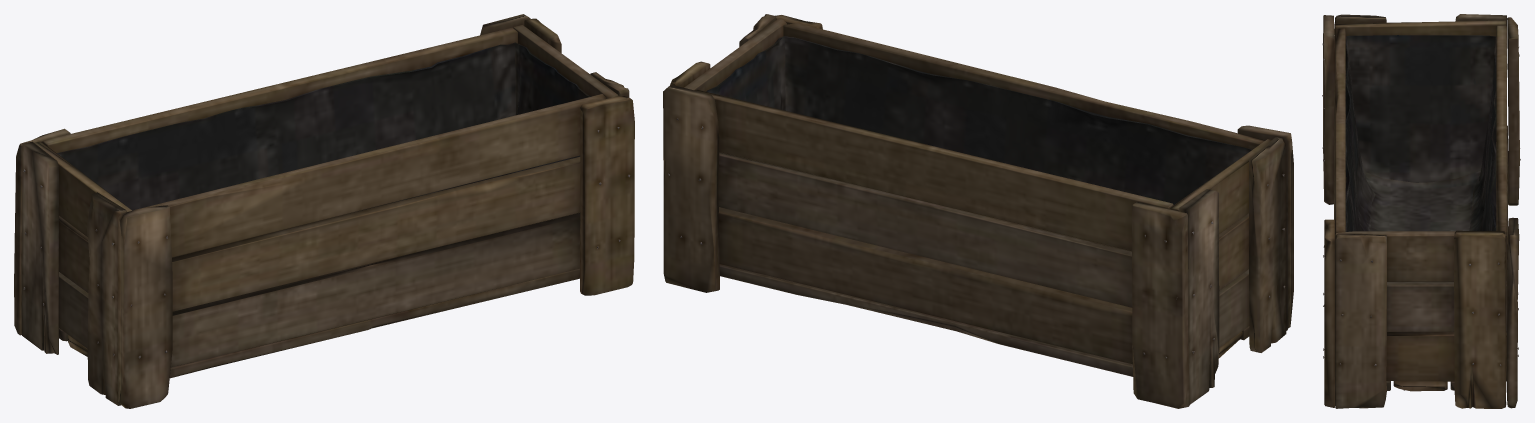
Rendered from jardinera.glb.
3 renders of one model, left to right at view 1: azimuth 30°, elevation 25°; view 2: azimuth 150°, elevation 25°; view 3: azimuth 270°, elevation 25°, orthographic. The views are drawn at different scales.
Parts seen in each view (by area): view 1: planter_box_02; view 2: planter_box_02; view 3: planter_box_02.
Part boxes in pixels (x1,y1,x2,y2): planter_box_02: (14, 14, 634, 408); planter_box_02: (663, 14, 1293, 408); planter_box_02: (1322, 14, 1520, 408).
Bounding box in the file's own units: 1.25 × 0.4529 × 0.467.
Materials: 1 (1 with a texture image).
